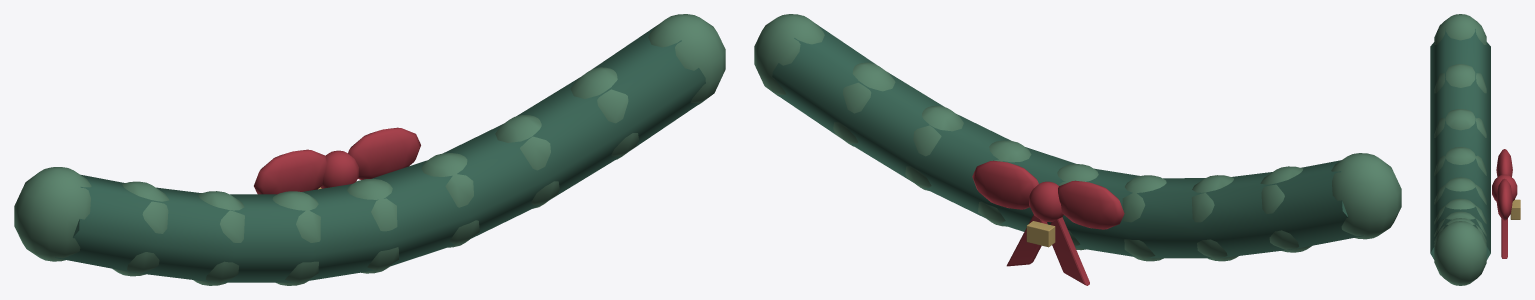
Rendered from garland.glb.
3 renders of one model, left to right at view 1: azimuth 30°, elevation 25°; view 2: azimuth 150°, elevation 25°; view 3: azimuth 270°, elevation 25°, orthographic. The views are drawn at different scales.
Size of the model in its own units: 0.9972 by 0.2493 by 0.164.
